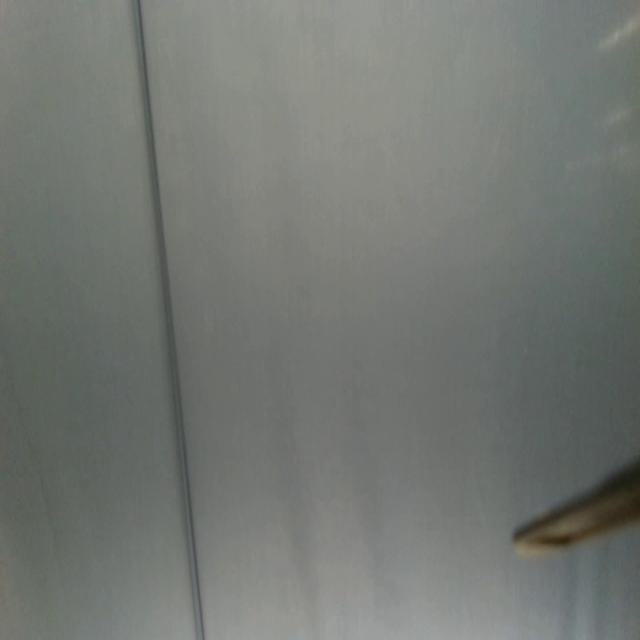crease: (133, 0, 207, 640)
